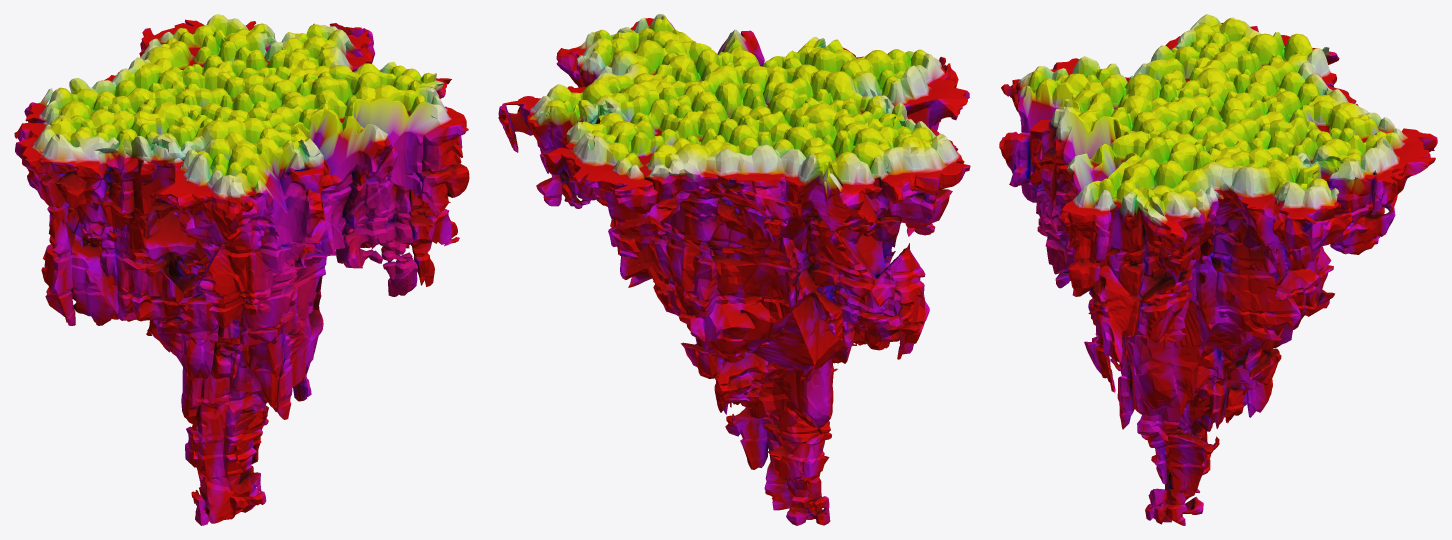
The model's file is island-mother.glb.
The picture shows the model from 3 angles, left to right: view 1: azimuth 30°, elevation 25°; view 2: azimuth 150°, elevation 25°; view 3: azimuth 270°, elevation 25°; orthographic projection. The views are drawn at different scales.
Bounding box in the file's own units: 403 × 392 × 357.
